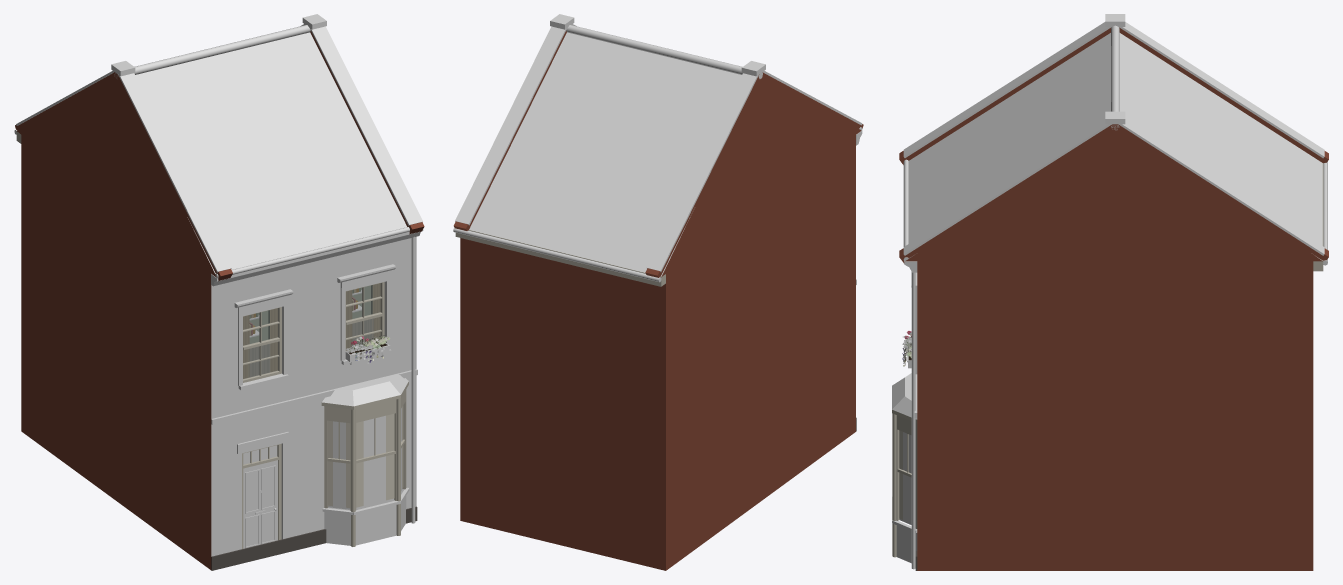
Rendered from terrace_50.glb.
The picture shows the model from 3 angles, left to right: view 1: azimuth 30°, elevation 25°; view 2: azimuth 150°, elevation 25°; view 3: azimuth 270°, elevation 25°; orthographic projection. The views are drawn at different scales.
Visible parts, largest first — view 1: terrace_50; view 2: terrace_50; view 3: terrace_50.
Part boxes in pixels (x1=…): terrace_50: x1=14, y1=14, x2=424, y2=570; terrace_50: x1=453, y1=14, x2=863, y2=570; terrace_50: x1=892, y1=14, x2=1328, y2=570.
Size of what is drawn, in the model's own units: 5.02 by 10.08 by 8.83.
